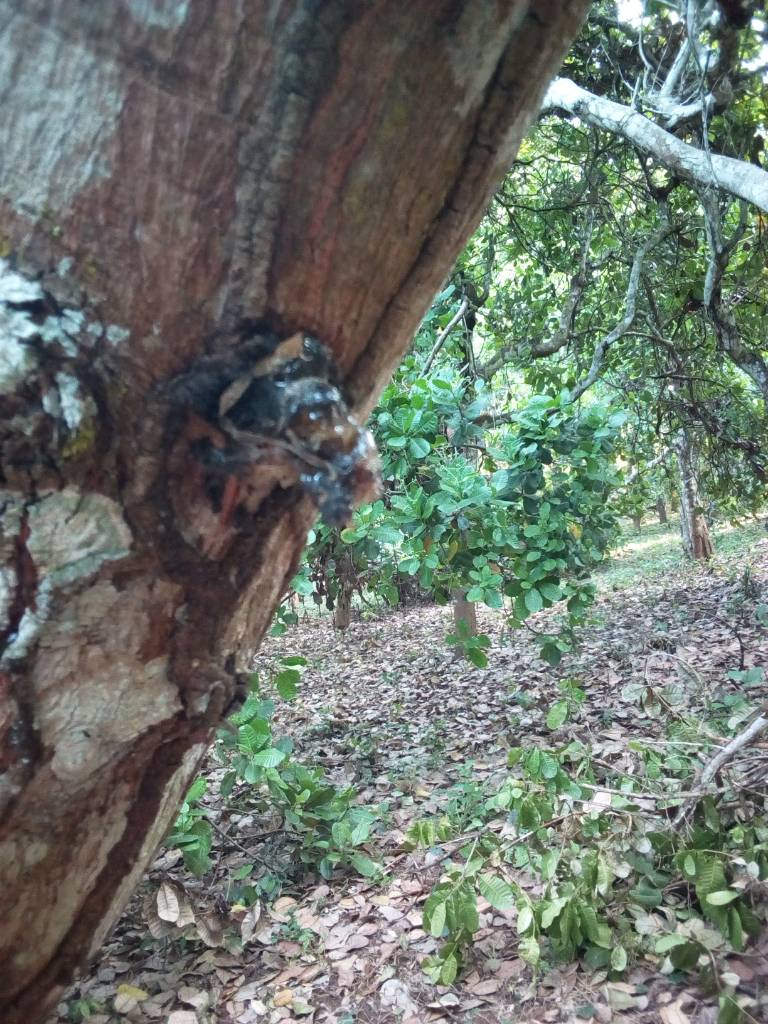Termites: (33, 663, 222, 986), (221, 14, 340, 314)
